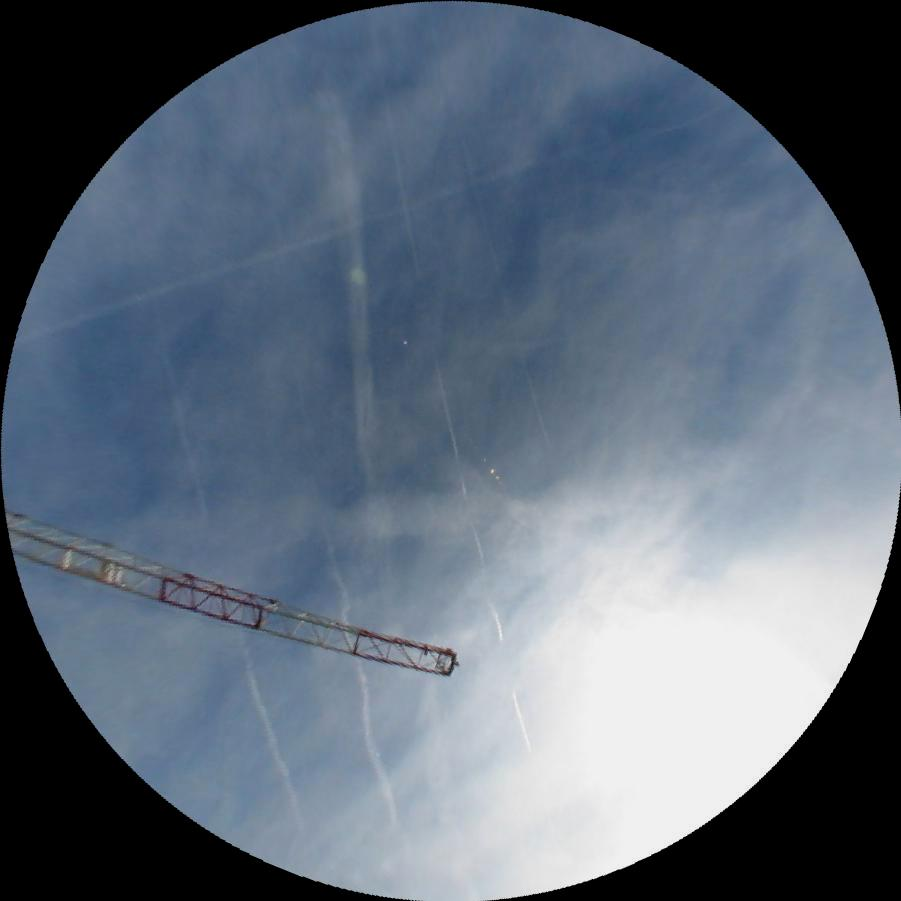contrail old: (10, 93, 739, 343), (361, 17, 532, 755)
contrail veryold: (144, 312, 305, 832), (113, 438, 741, 571), (285, 388, 400, 827), (315, 82, 408, 612), (404, 675, 464, 832)
contrail young: (429, 27, 549, 450)
